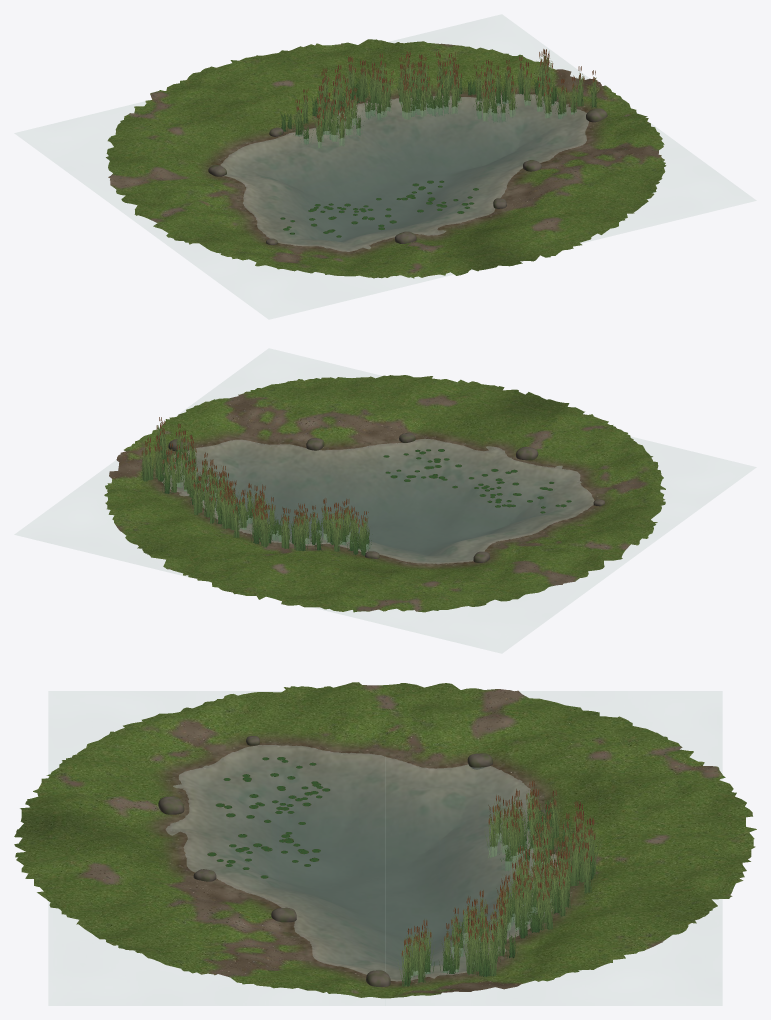
File: pond.glb
3 views of the same model, one above another, from view 1: azimuth 30°, elevation 25°; view 2: azimuth 150°, elevation 25°; view 3: azimuth 270°, elevation 25° (orthographic). The views are drawn at different scales.
Visible parts, largest first — view 1: Pond bed and banks, Pond water surface, Marginal plants and water lilies, Margin stones; view 2: Pond bed and banks, Pond water surface, Marginal plants and water lilies, Margin stones; view 3: Pond bed and banks, Pond water surface, Marginal plants and water lilies, Margin stones.
Boxes of the visible parts, x1,y1,x2,y2 form: Pond bed and banks: [106, 39, 666, 278]; Pond water surface: [14, 14, 756, 319]; Marginal plants and water lilies: [278, 49, 598, 237]; Margin stones: [208, 108, 607, 244]; Pond bed and banks: [104, 375, 665, 612]; Pond water surface: [14, 348, 756, 653]; Marginal plants and water lilies: [140, 417, 571, 555]; Margin stones: [168, 432, 604, 562]; Pond bed and banks: [14, 682, 756, 998]; Pond water surface: [48, 691, 722, 1005]; Marginal plants and water lilies: [207, 757, 604, 986]; Margin stones: [158, 736, 552, 986].
Size of the model in its own units: 21 by 3.53 by 20.94.
Materials: 4 (4 with a texture image).
